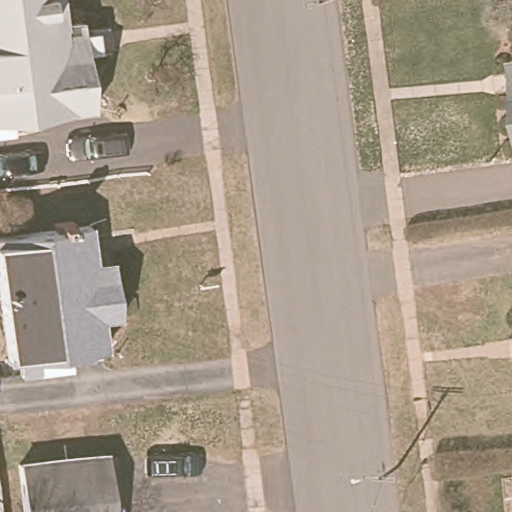DT: (349, 460, 402, 488)
